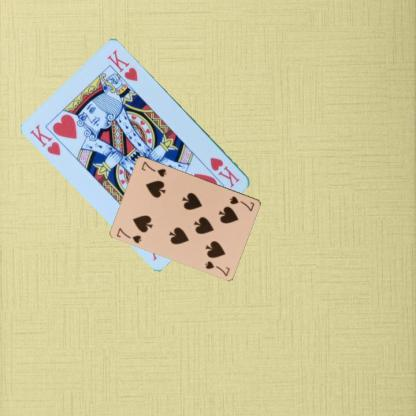7s: (227, 194, 256, 212), (114, 226, 143, 244)
Kh: (28, 121, 63, 157), (208, 154, 242, 190)
